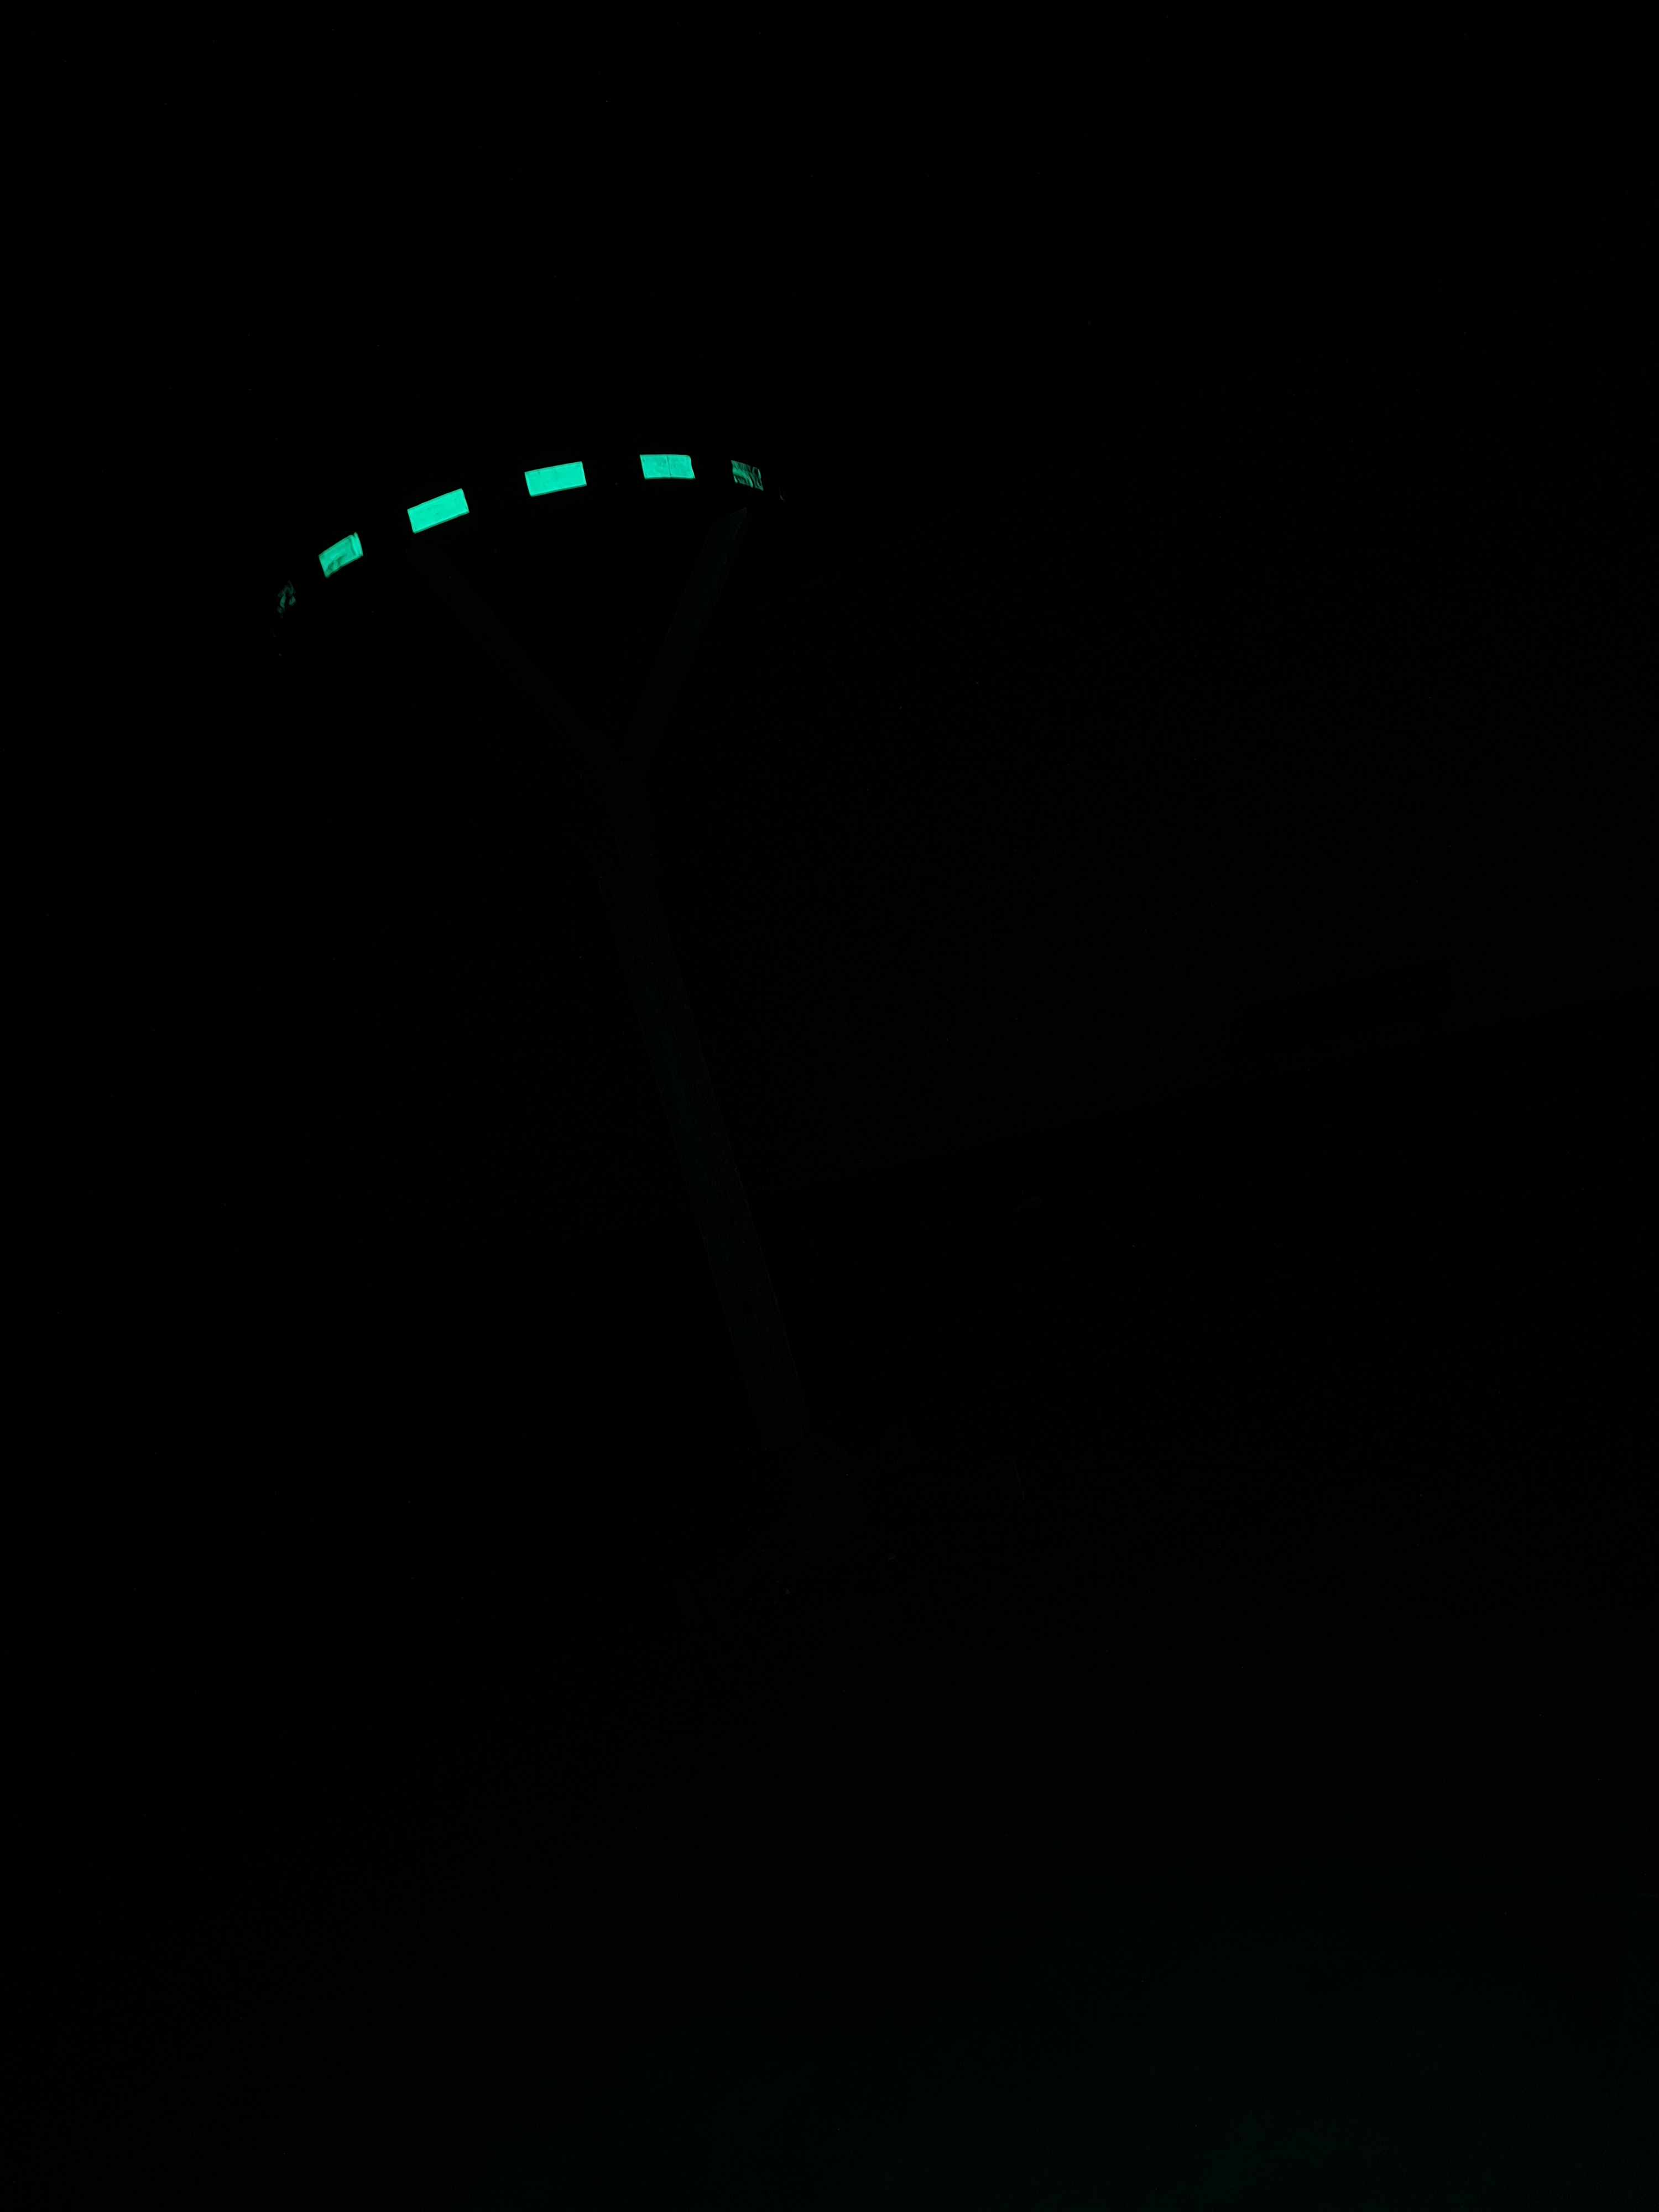hoop: (246, 449, 770, 615)
